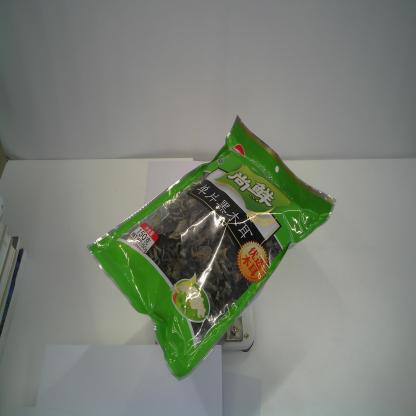Dried Food: (86, 114, 337, 378)
